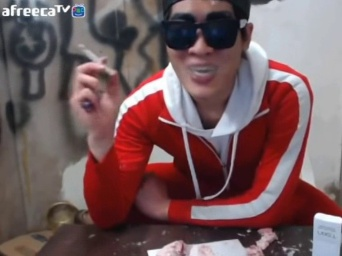smoke: (78, 42, 111, 72)
